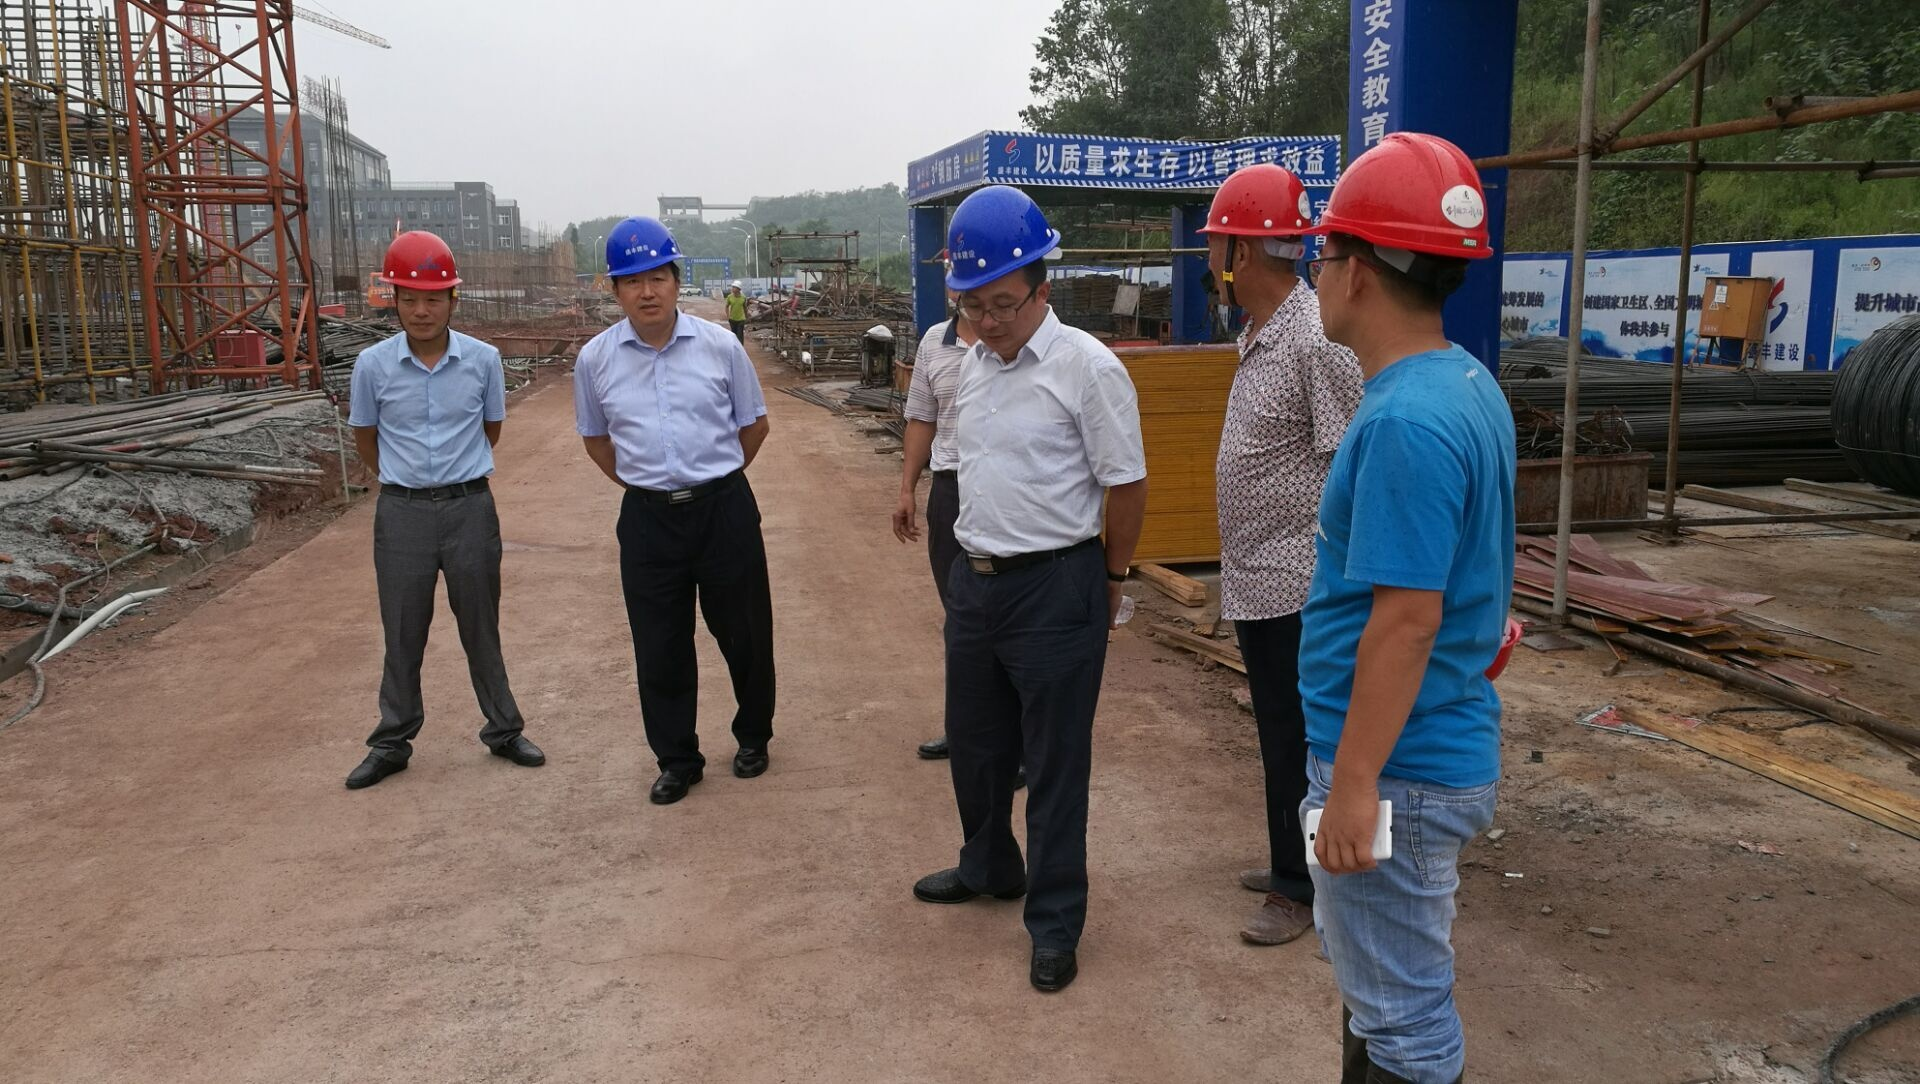blue: (938, 179, 1063, 353), (593, 215, 695, 330)
red: (1303, 132, 1490, 348), (1203, 160, 1309, 303), (377, 219, 463, 346)
white: (731, 280, 742, 294)
